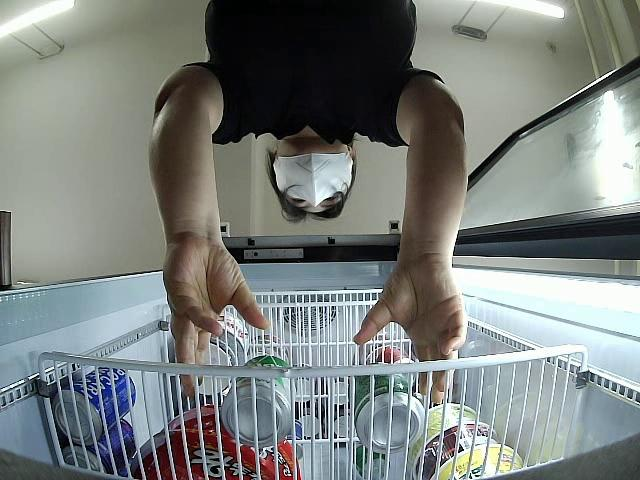00_hand: (161, 239, 270, 400), (354, 267, 468, 406)
